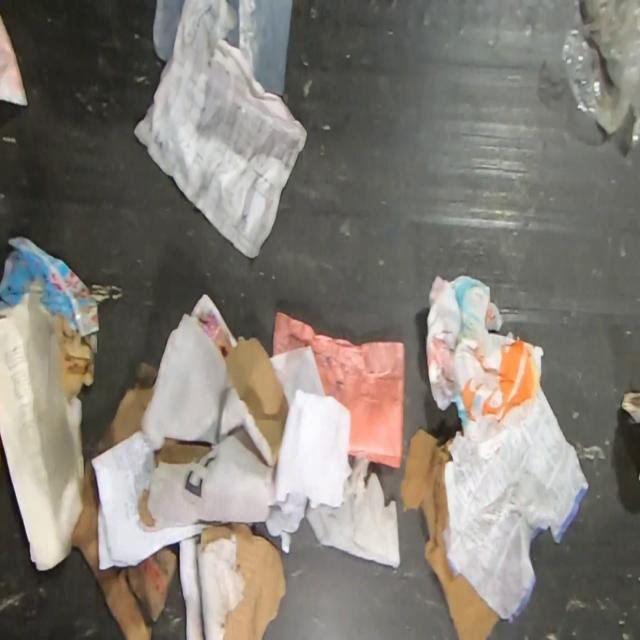cardboard: (71, 362, 180, 640), (138, 335, 289, 532), (398, 425, 501, 640), (196, 524, 287, 640)
soft_plastic: (152, 0, 294, 96), (560, 0, 640, 151)
